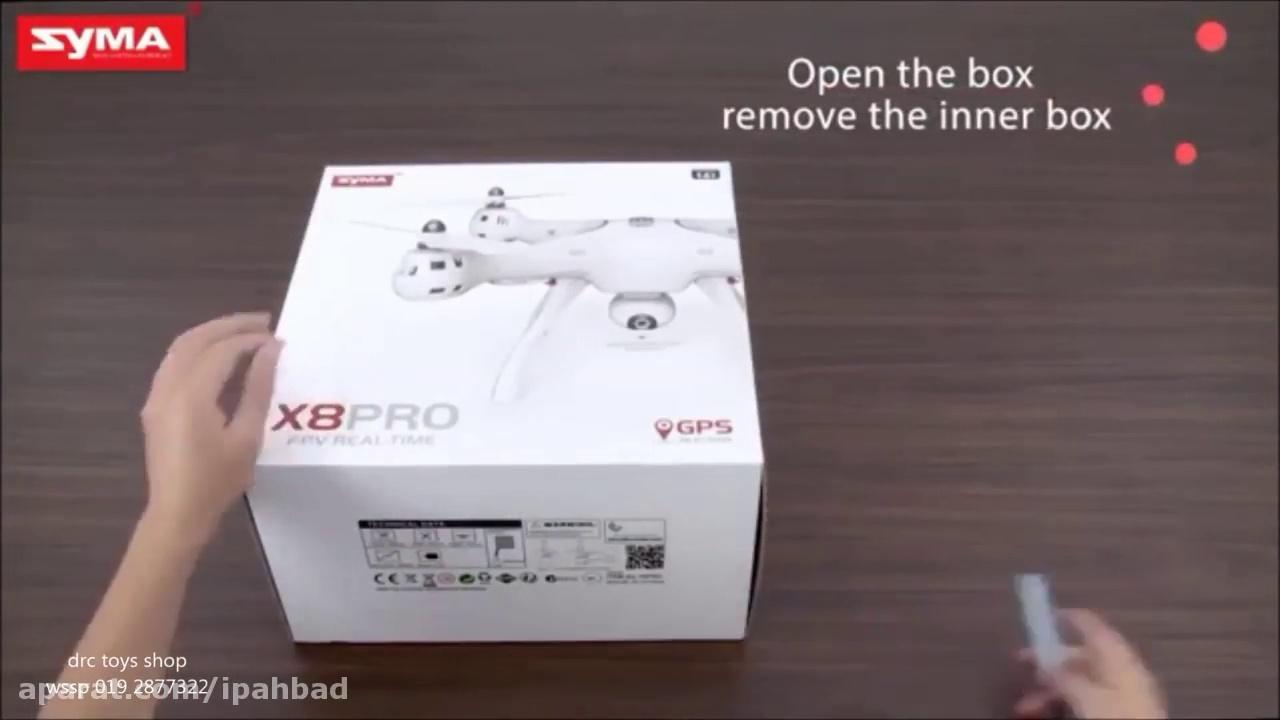drone: (353, 184, 755, 396)
